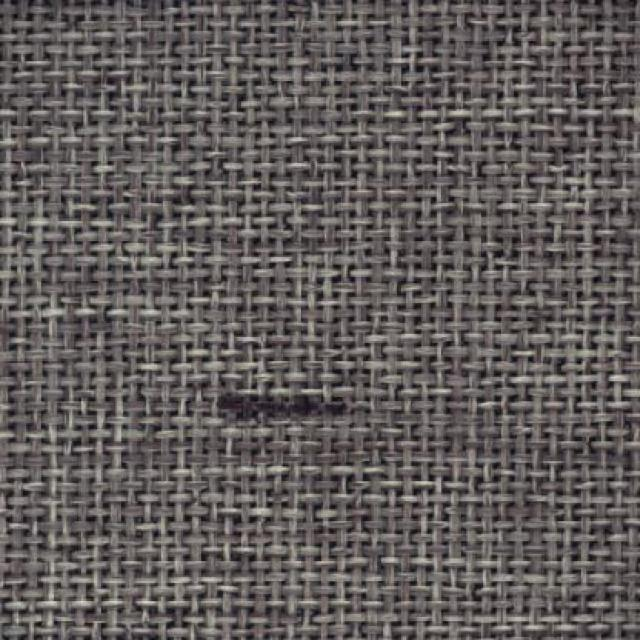Thread_other: (142, 322, 400, 510)
